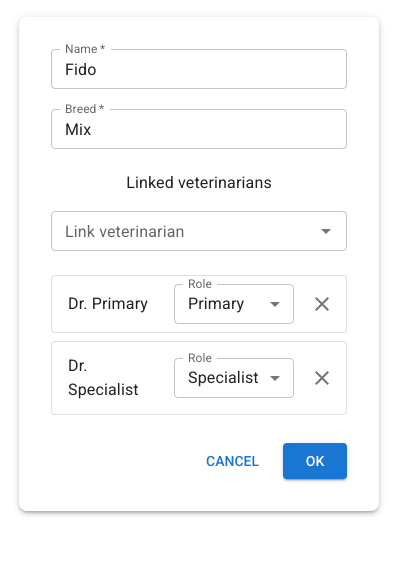
Test: PetForm linking UI › switching primary from one vet to another updates both roles in UI
Expected: the text "Dr. Primary" is shown, x1=68 y1=292 x2=158 y2=316
Expected: the text "Dr. Specialist" is shown, x1=68 y1=356 x2=139 y2=399
// Change Dr. Specialist to Primary
Click the dropdown named "role": click(223, 378) x1=188 y1=368 x2=259 y2=387
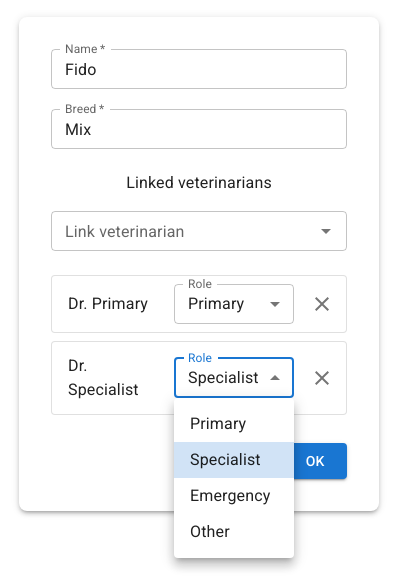
Click the option "Primary": click(218, 424) x1=190 y1=414 x2=246 y2=433
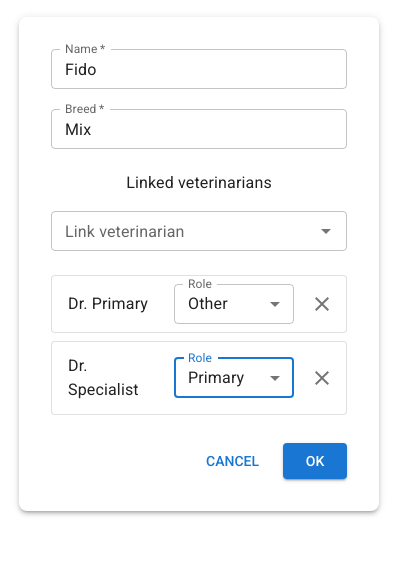
Now the dropdown named "role" reads "Other", box x1=188 y1=294 x2=228 y2=313
Now the dropdown named "role" reads "Primary", box x1=188 y1=368 x2=244 y2=387
